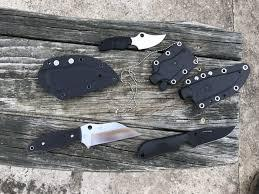Knife: (27, 122, 138, 154), (140, 124, 224, 159), (97, 33, 166, 52)
